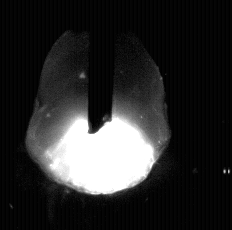arame: (89, 0, 114, 134)
poca: (25, 0, 168, 230)
